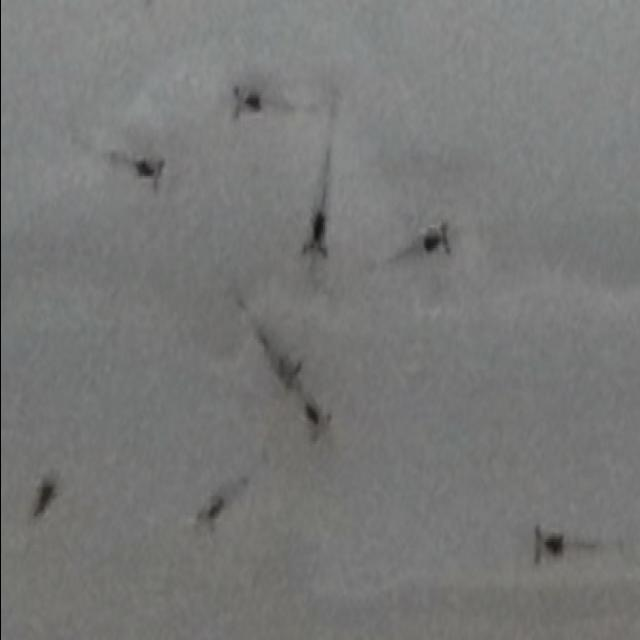shrimp-seed: (263, 330, 305, 399), (410, 212, 456, 268), (528, 518, 570, 572), (226, 76, 266, 132), (302, 390, 337, 451), (23, 470, 58, 530), (302, 200, 330, 268), (134, 145, 168, 199), (192, 490, 225, 538)
